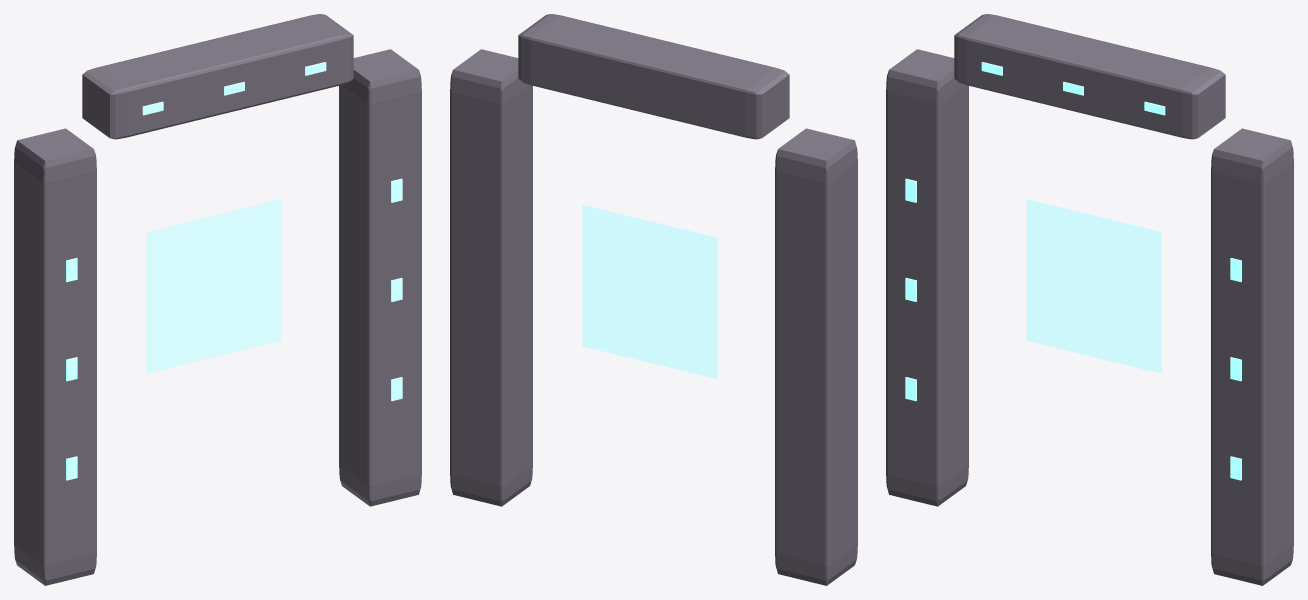
File: portal_archway.glb
3 views of the same model, side by side, from view 1: azimuth 30°, elevation 25°; view 2: azimuth 150°, elevation 25°; view 3: azimuth 330°, elevation 25° (orthographic).
Visible parts, largest first — view 1: LeftPillar, RightPillar, ArchTop, PortalGlow; view 2: LeftPillar, RightPillar, ArchTop, PortalGlow; view 3: RightPillar, LeftPillar, ArchTop, PortalGlow.
Part boxes in pixels (x1,y1,x2,y2): LeftPillar: (14,128,96,585); RightPillar: (339,49,421,506); ArchTop: (82,14,353,139); PortalGlow: (146,199,281,373); LeftPillar: (775,128,857,585); RightPillar: (450,49,532,506); ArchTop: (518,14,789,139); PortalGlow: (582,205,717,378); RightPillar: (1211,128,1293,585); LeftPillar: (886,49,968,506); ArchTop: (954,14,1225,139); PortalGlow: (1026,199,1161,373).
Size of the model in its own units: 2.8 by 3.38 by 0.415.
